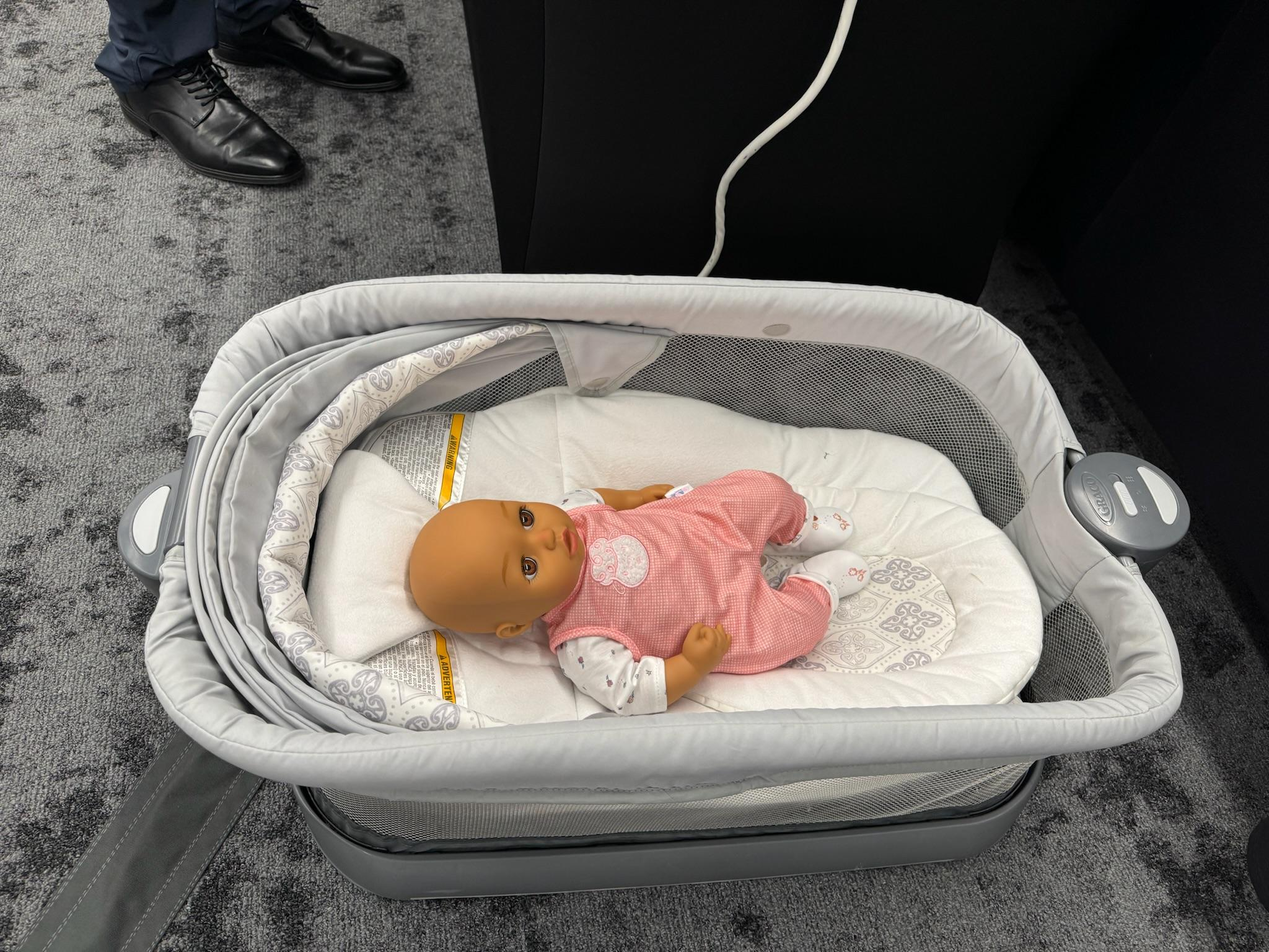baby: (396, 465, 887, 707)
